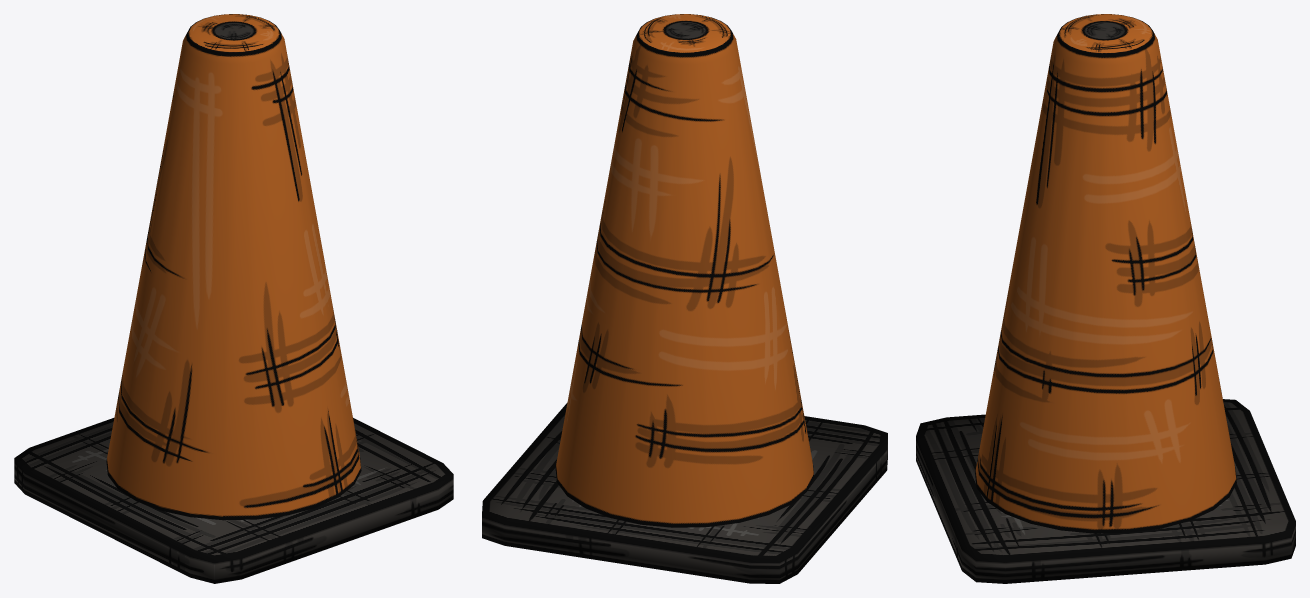
The model's file is TrafficCone7.FBX.
3 renders of one model, left to right at view 1: azimuth 30°, elevation 25°; view 2: azimuth 150°, elevation 25°; view 3: azimuth 270°, elevation 25°, orthographic. The views are drawn at different scales.
Parts seen in each view (by area): view 1: Cone006; view 2: Cone006; view 3: Cone006.
Boxes of the visible parts, x1=… form: Cone006: x1=14, y1=14, x2=453, y2=583; Cone006: x1=482, y1=14, x2=887, y2=583; Cone006: x1=916, y1=14, x2=1295, y2=583.
Bounding box in the file's own units: 49.91 × 68.56 × 49.91.
